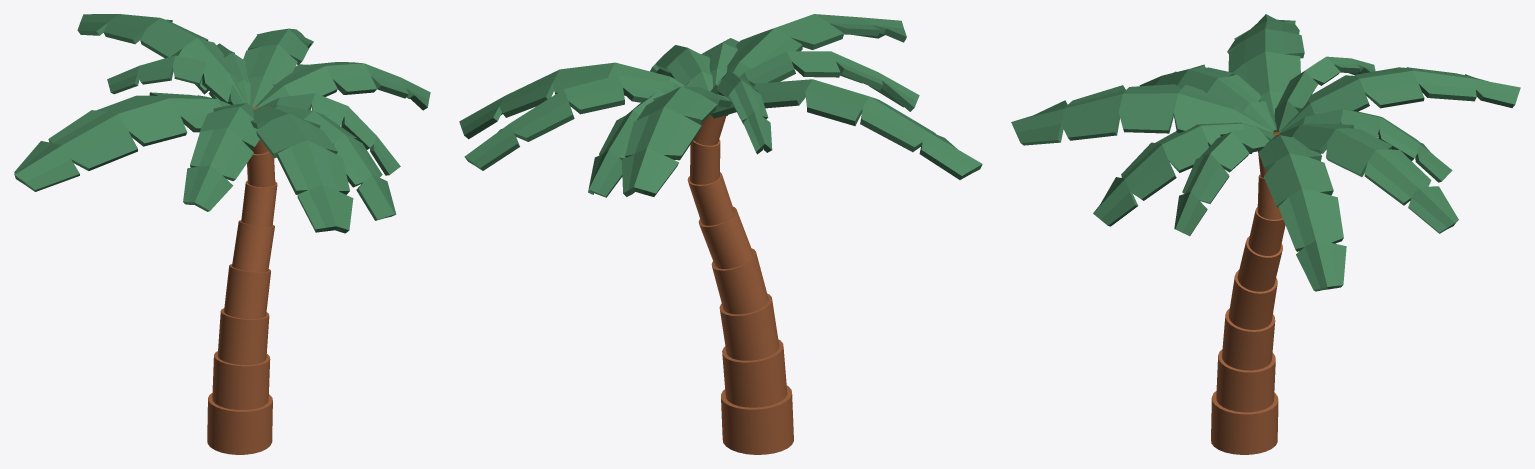
File: palmtree4.fbx
3 renders of one model, left to right at view 1: azimuth 30°, elevation 25°; view 2: azimuth 150°, elevation 25°; view 3: azimuth 270°, elevation 25°, orthographic. The views are drawn at different scales.
Parts seen in each view (by area): view 1: Leaves, Cylinder; view 2: Leaves, Cylinder; view 3: Leaves, Cylinder.
Part boxes in pixels (<box>): Leaves: <box>14,14,430,233</box>; Cylinder: <box>207,107,277,454</box>; Leaves: <box>459,14,982,197</box>; Cylinder: <box>687,114,793,454</box>; Leaves: <box>1011,14,1520,291</box>; Cylinder: <box>1211,131,1285,454</box>.
Size of the model in its own units: 1582 by 1228 by 1525.
